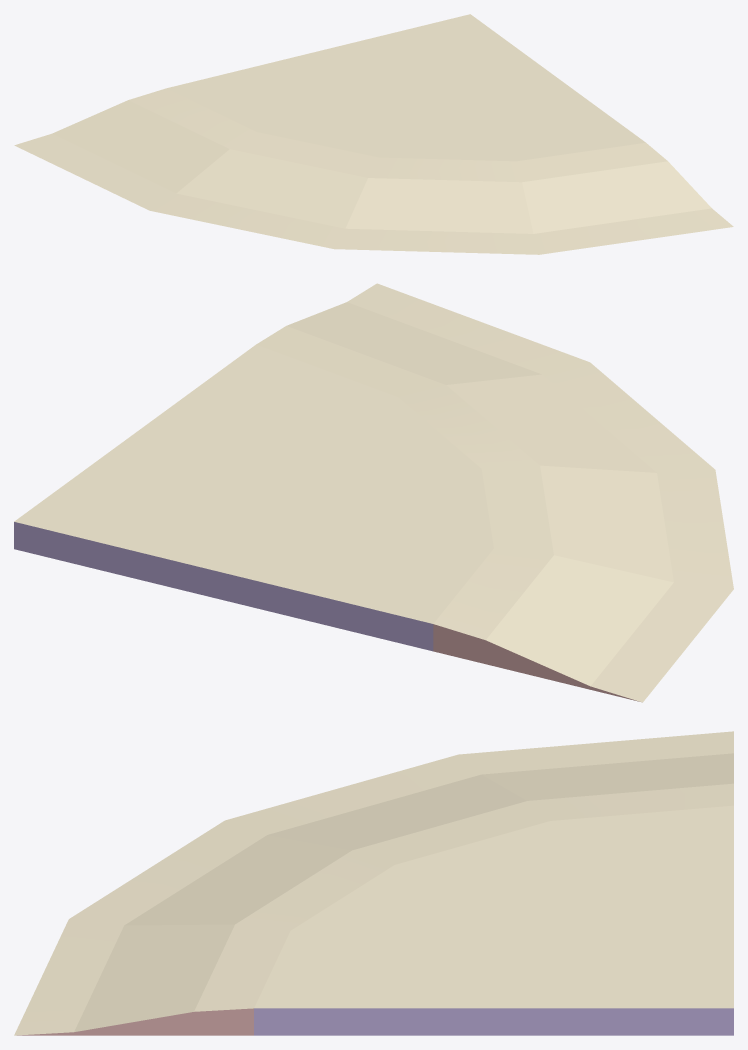
The model's file is Terrain_Sand_Incline_Curve_Outer_12x12.glb.
The picture shows the model from 3 angles, top to bottom: view 1: azimuth 30°, elevation 25°; view 2: azimuth 150°, elevation 25°; view 3: azimuth 270°, elevation 25°; orthographic projection. The views are drawn at different scales.
Visible parts, largest first — view 1: Terrain_Sand_Incline_Curve_Outer_12x12; view 2: Terrain_Sand_Incline_Curve_Outer_12x12; view 3: Terrain_Sand_Incline_Curve_Outer_12x12.
Part boxes in pixels (x1=…): Terrain_Sand_Incline_Curve_Outer_12x12: x1=14, y1=14, x2=733, y2=254; Terrain_Sand_Incline_Curve_Outer_12x12: x1=14, y1=283, x2=733, y2=702; Terrain_Sand_Incline_Curve_Outer_12x12: x1=14, y1=731, x2=733, y2=1035.
Bounding box in the file's own units: 1200 × 50 × 1200.
